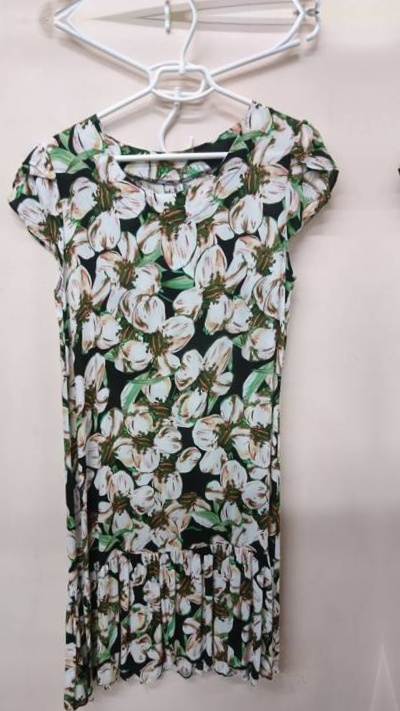Dress: (3, 67, 350, 711)
